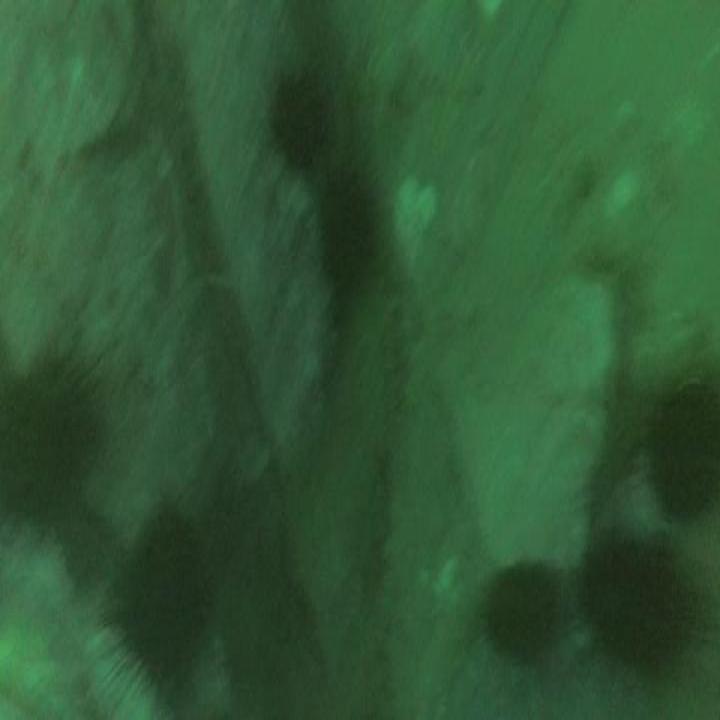echinus: (93, 484, 221, 714), (570, 498, 712, 693), (4, 338, 115, 544), (466, 537, 580, 686), (633, 355, 720, 537), (307, 158, 390, 320), (264, 59, 338, 176)
